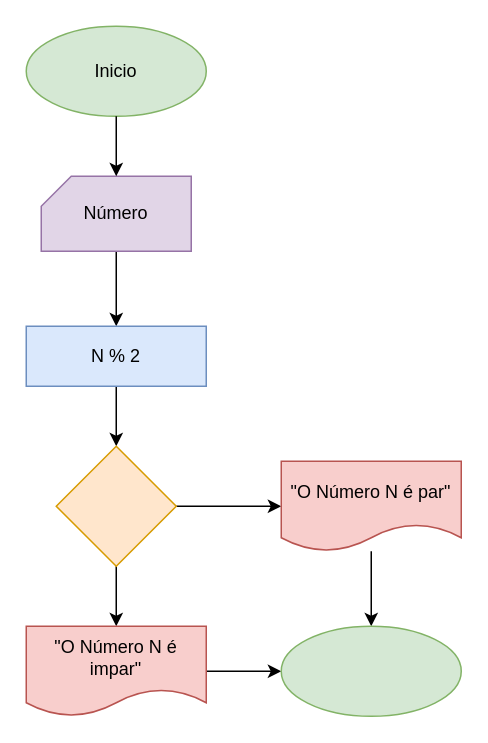
This 488x743 diagram has some shape labels left out. The shapes that lost their labels are listed below. From the top down, each one's centre as x and y in pixels, then its label:
At (x=115, y=505): "N = 0".
At (x=370, y=670): "Fim".
